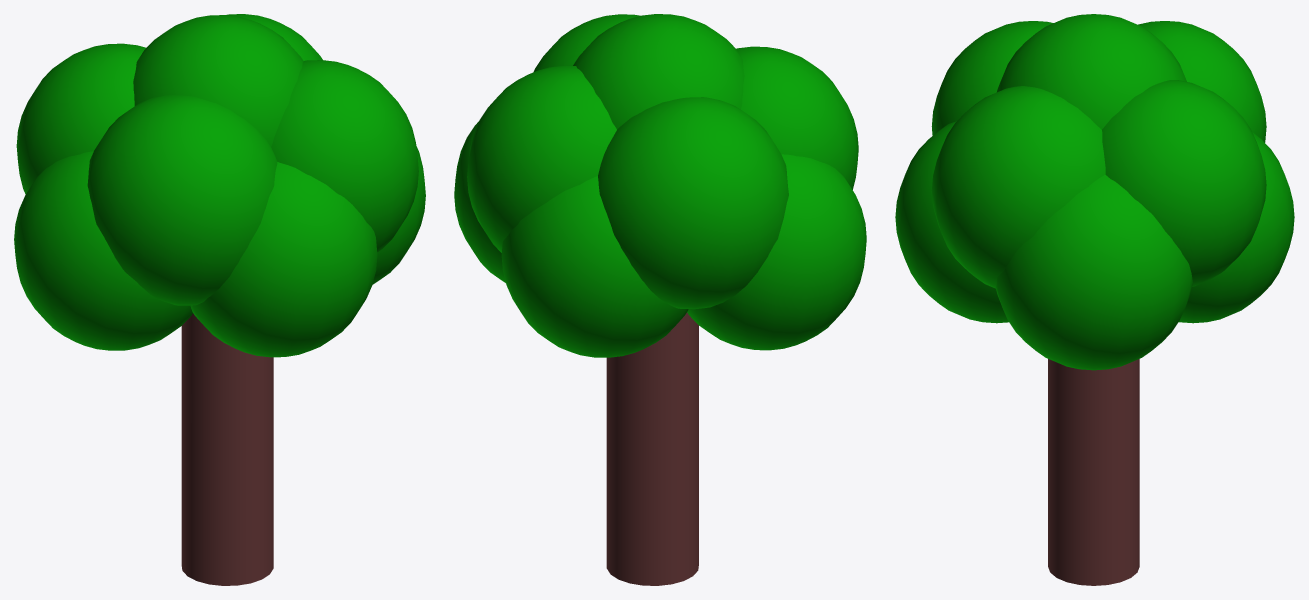
Rendered from arvorinha.fbx.
3 renders of one model, left to right at view 1: azimuth 30°, elevation 25°; view 2: azimuth 150°, elevation 25°; view 3: azimuth 270°, elevation 25°, orthographic.
Parts seen in each view (by area): view 1: pasted__pasted__pasted__pasted__pasted__pasted__pasted__pSph, pCylinder1, pasted__pasted__pasted__pSphere1, pSphere1, pasted__pasted__pasted__pasted__pasted__pasted__pasted__past, pasted__pSphere1, pasted__pasted__pasted__pasted__pasted__pasted__pSphere1, pasted__pasted__pSphere1, pasted__pasted__pasted__pasted__pasted__pSphere1; view 2: pasted__pasted__pasted__pasted__pasted__pasted__pSphere1, pCylinder1, pasted__pasted__pasted__pasted__pSphere1, pSphere1, pasted__pasted__pasted__pasted__pasted__pSphere1, pasted__pSphere1, pasted__pasted__pasted__pasted__pasted__pasted__pasted__pSph, pasted__pasted__pSphere1, pasted__pasted__pasted__pasted__pasted__pasted__pasted__past; view 3: pasted__pasted__pSphere1, pasted__pasted__pasted__pasted__pasted__pasted__pasted__past, pasted__pasted__pasted__pasted__pasted__pSphere1, pCylinder1, pasted__pSphere1, pasted__pasted__pasted__pSphere1, pasted__pasted__pasted__pasted__pSphere1, pasted__pasted__pasted__pasted__pasted__pasted__pSphere1, pasted__pasted__pasted__pasted__pasted__pasted__pasted__pSph.
Part boxes in pixels (box(x1,y1,x2,y2)): pasted__pasted__pasted__pasted__pasted__pasted__pasted__pSph: box(87, 95, 277, 305); pCylinder1: box(181, 313, 273, 585); pasted__pasted__pasted__pSphere1: box(190, 162, 377, 357); pSphere1: box(14, 151, 192, 350); pasted__pasted__pasted__pasted__pasted__pasted__pasted__past: box(271, 60, 418, 252); pasted__pSphere1: box(133, 15, 303, 146); pasted__pasted__pasted__pasted__pasted__pasted__pSphere1: box(16, 43, 145, 194); pasted__pasted__pSphere1: box(372, 146, 425, 284); pasted__pasted__pasted__pasted__pasted__pSphere1: box(226, 14, 322, 60); pasted__pasted__pasted__pasted__pasted__pasted__pSphere1: box(598, 97, 788, 309); pCylinder1: box(606, 312, 698, 585); pasted__pasted__pasted__pasted__pSphere1: box(501, 176, 688, 357); pSphere1: box(687, 154, 866, 350); pasted__pasted__pasted__pasted__pasted__pSphere1: box(467, 65, 616, 252); pasted__pSphere1: box(573, 14, 744, 129); pasted__pasted__pasted__pasted__pasted__pasted__pasted__pSph: box(736, 46, 858, 189); pasted__pasted__pSphere1: box(454, 121, 505, 282); pasted__pasted__pasted__pasted__pasted__pasted__pasted__past: box(533, 14, 640, 72); pasted__pasted__pSphere1: box(996, 175, 1192, 370); pasted__pasted__pasted__pasted__pasted__pasted__pasted__past: box(931, 86, 1105, 288); pasted__pasted__pasted__pasted__pasted__pSphere1: box(1102, 80, 1266, 286); pCylinder1: box(1048, 359, 1139, 585); pasted__pSphere1: box(997, 14, 1186, 129); pasted__pasted__pasted__pSphere1: box(895, 121, 1008, 323); pasted__pasted__pasted__pasted__pSphere1: box(1179, 132, 1294, 323); pasted__pasted__pasted__pasted__pasted__pasted__pSphere1: box(1138, 21, 1266, 142); pasted__pasted__pasted__pasted__pasted__pasted__pasted__pSph: box(931, 21, 1053, 135).
Bounding box in the file's own units: 9.63 × 12.99 × 8.7.
